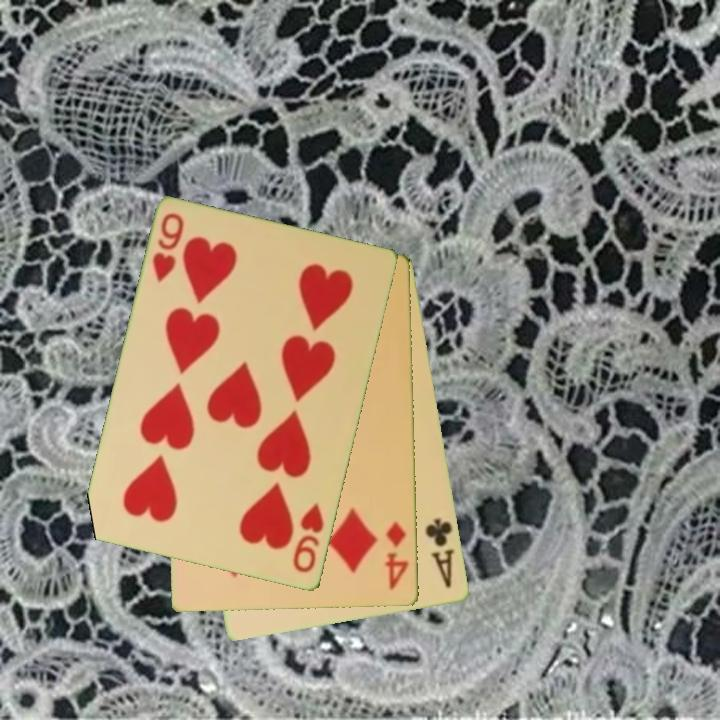4d: (382, 518, 412, 593)
9h: (289, 500, 327, 577), (149, 210, 187, 286)
Ac: (422, 515, 458, 591)
